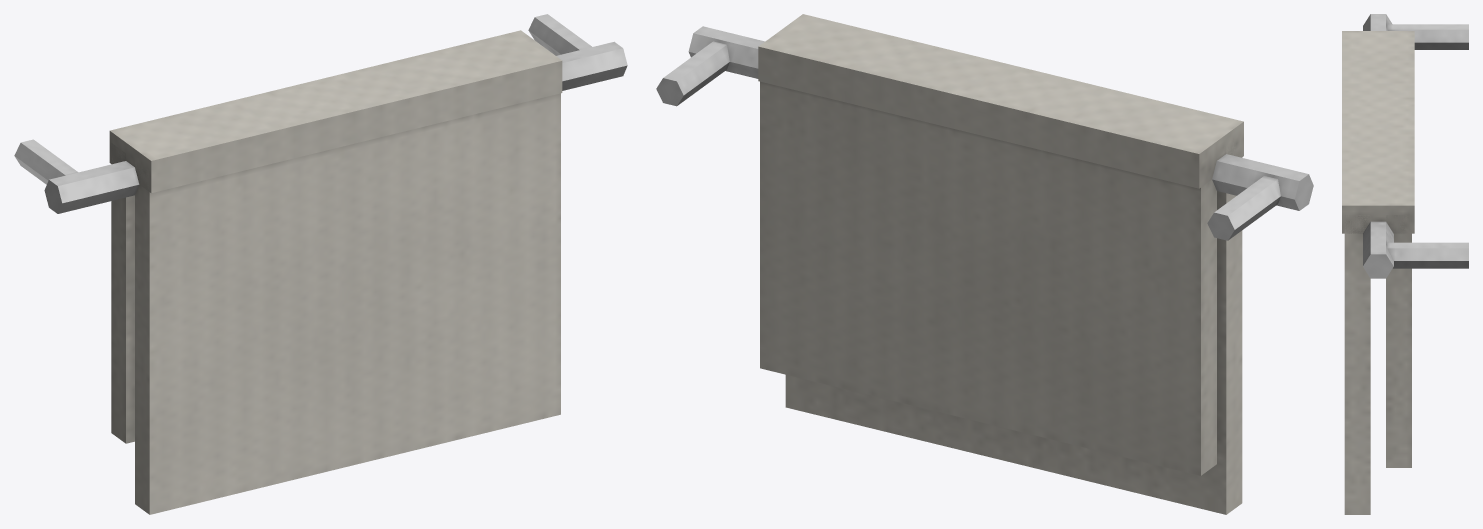
The model's file is H_TowelRail.fbx.
The picture shows the model from 3 angles, left to right: view 1: azimuth 30°, elevation 25°; view 2: azimuth 150°, elevation 25°; view 3: azimuth 270°, elevation 25°; orthographic projection. The views are drawn at different scales.
Visible parts, largest first — view 1: H_TowelRail; view 2: H_TowelRail; view 3: H_TowelRail.
Part boxes in pixels (left/top/right/bottom): H_TowelRail: left=14, top=14, right=627, bottom=514; H_TowelRail: left=656, top=14, right=1313, bottom=514; H_TowelRail: left=1342, top=14, right=1468, bottom=514.
Size of the model in its own units: 220 by 132 by 49.
Materials: 1 (1 with a texture image).
